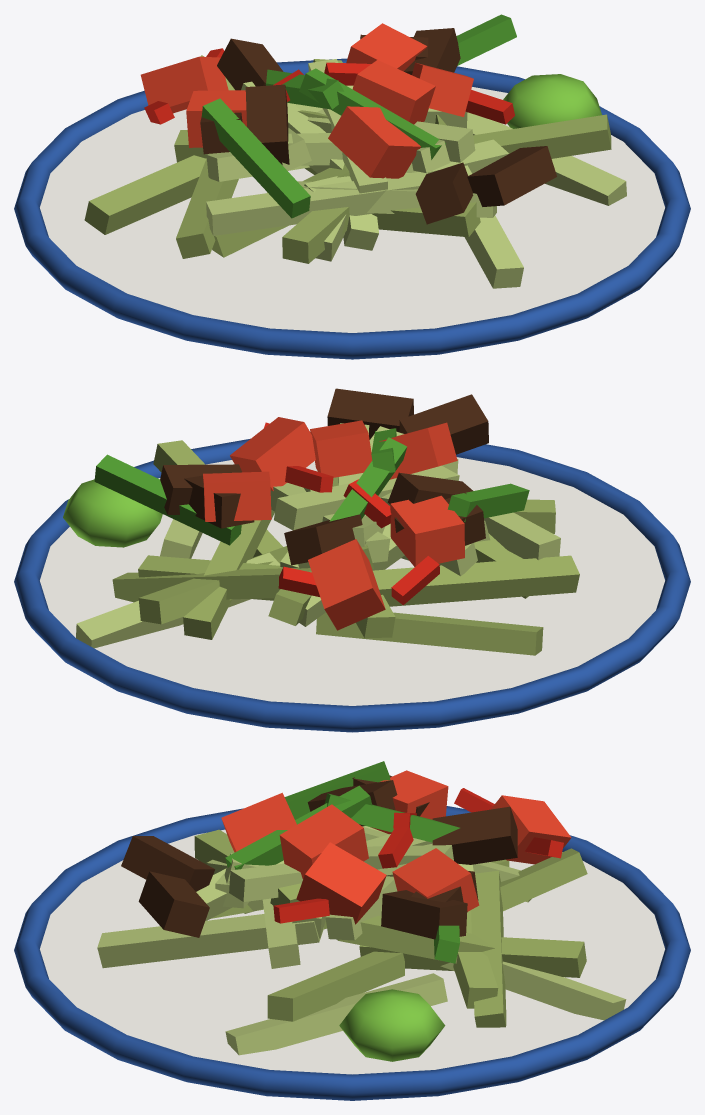
Rendered from dish_tam_poo.glb.
3 views of the same model, one above another, from view 1: azimuth 30°, elevation 25°; view 2: azimuth 150°, elevation 25°; view 3: azimuth 270°, elevation 25° (orthographic).
Visible parts, largest first — view 1: dish_tam_poo; view 2: dish_tam_poo; view 3: dish_tam_poo.
Part boxes in pixels (x1,y1,x2,y2): dish_tam_poo: [14, 14, 690, 359]; dish_tam_poo: [14, 388, 690, 732]; dish_tam_poo: [14, 761, 690, 1100].
Bounding box in the file's own units: 0.51 × 0.1533 × 0.51.
